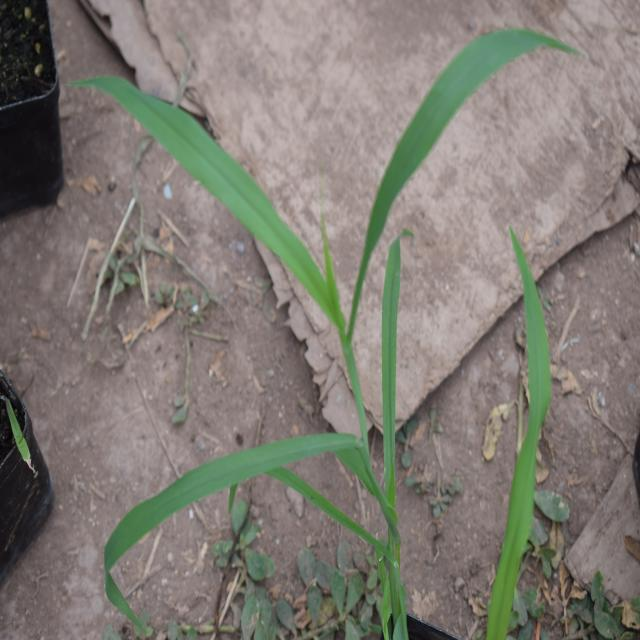crabgrass: (111, 53, 454, 589)
